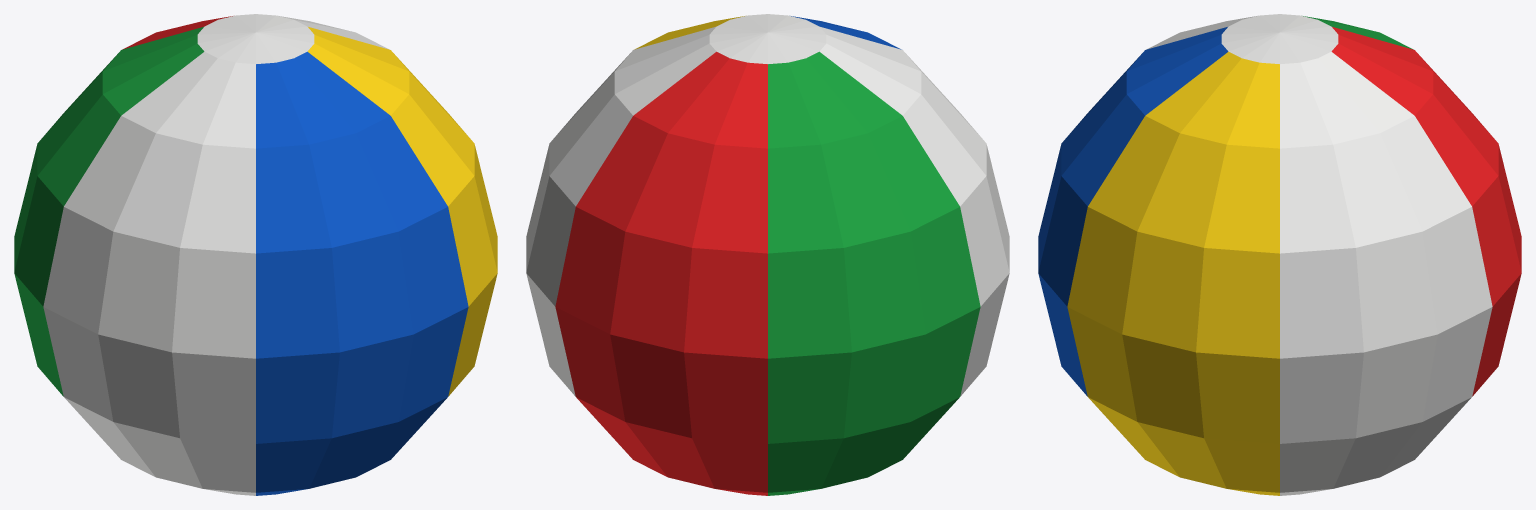
Rendered from beach-ball.glb.
3 renders of one model, left to right at view 1: azimuth 30°, elevation 25°; view 2: azimuth 150°, elevation 25°; view 3: azimuth 270°, elevation 25°, orthographic.
Parts seen in each view (by area): view 1: BeachBall; view 2: BeachBall; view 3: BeachBall.
Part boxes in pixels (<box>): BeachBall: <box>14,14,497,495</box>; BeachBall: <box>526,14,1009,495</box>; BeachBall: <box>1038,14,1521,495</box>.
Bounding box in the file's own units: 0.8 × 0.8 × 0.7878.
